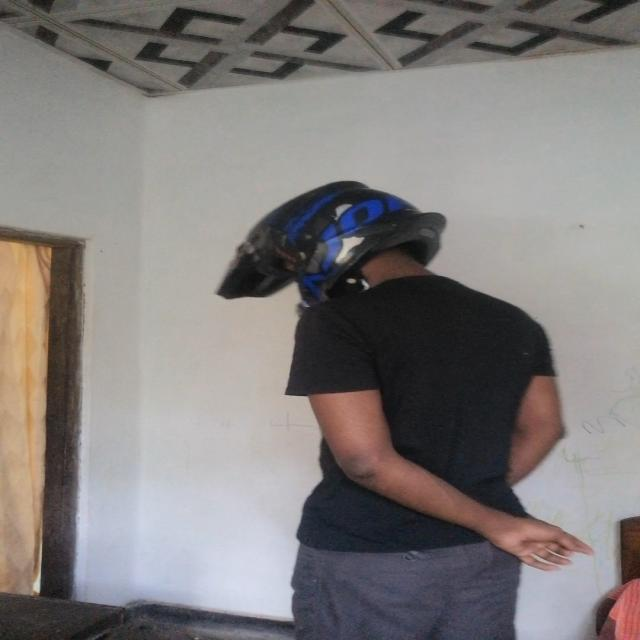Helmet_Wearer: (213, 177, 472, 301)
Person: (254, 173, 574, 640)
